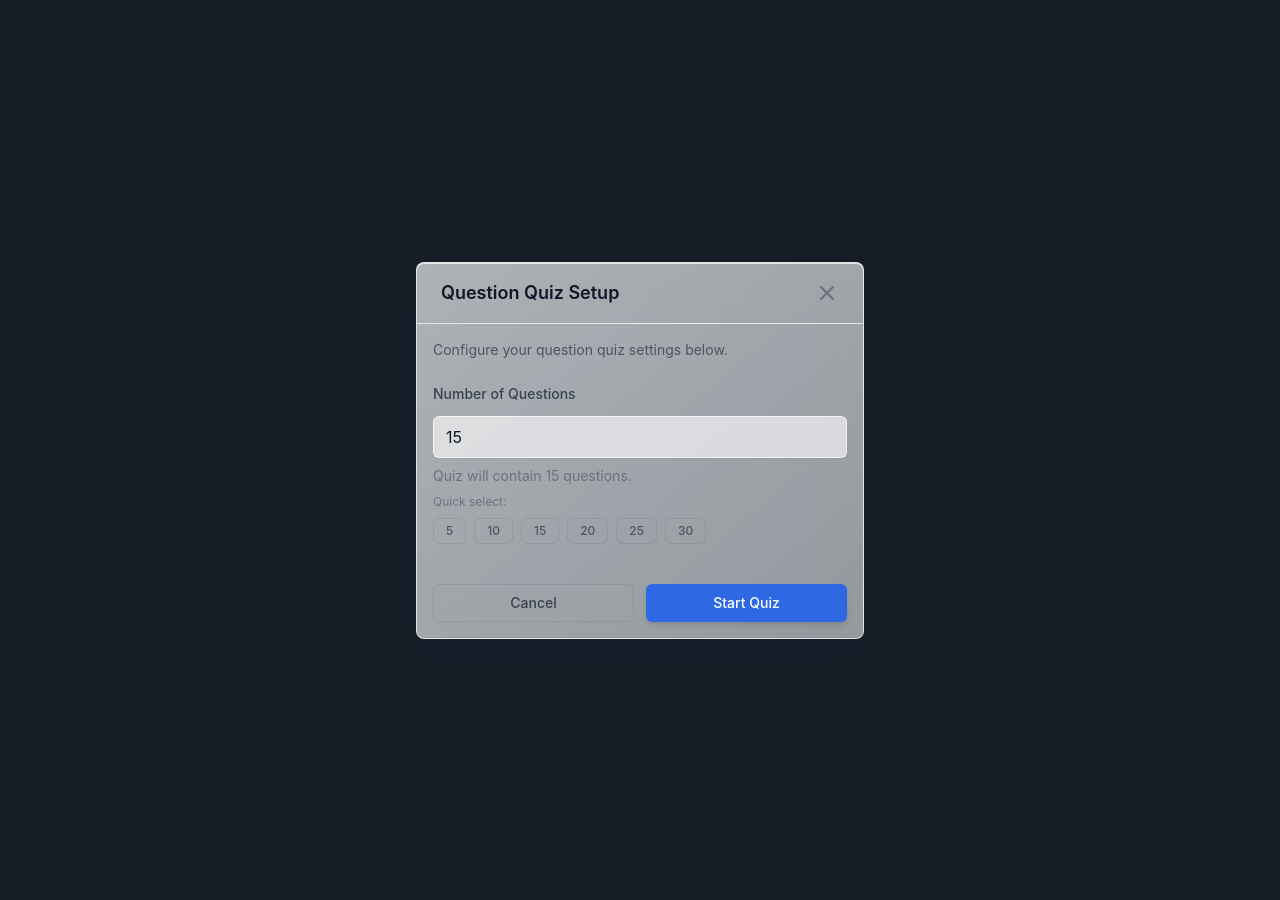
Test: QuizSetupModal › without familiarity selection › disables Start Quiz when the count is invalid
Clear the number field at {"x": 640, "y": 436}, box x1=433 y1=416 x2=847 y2=458
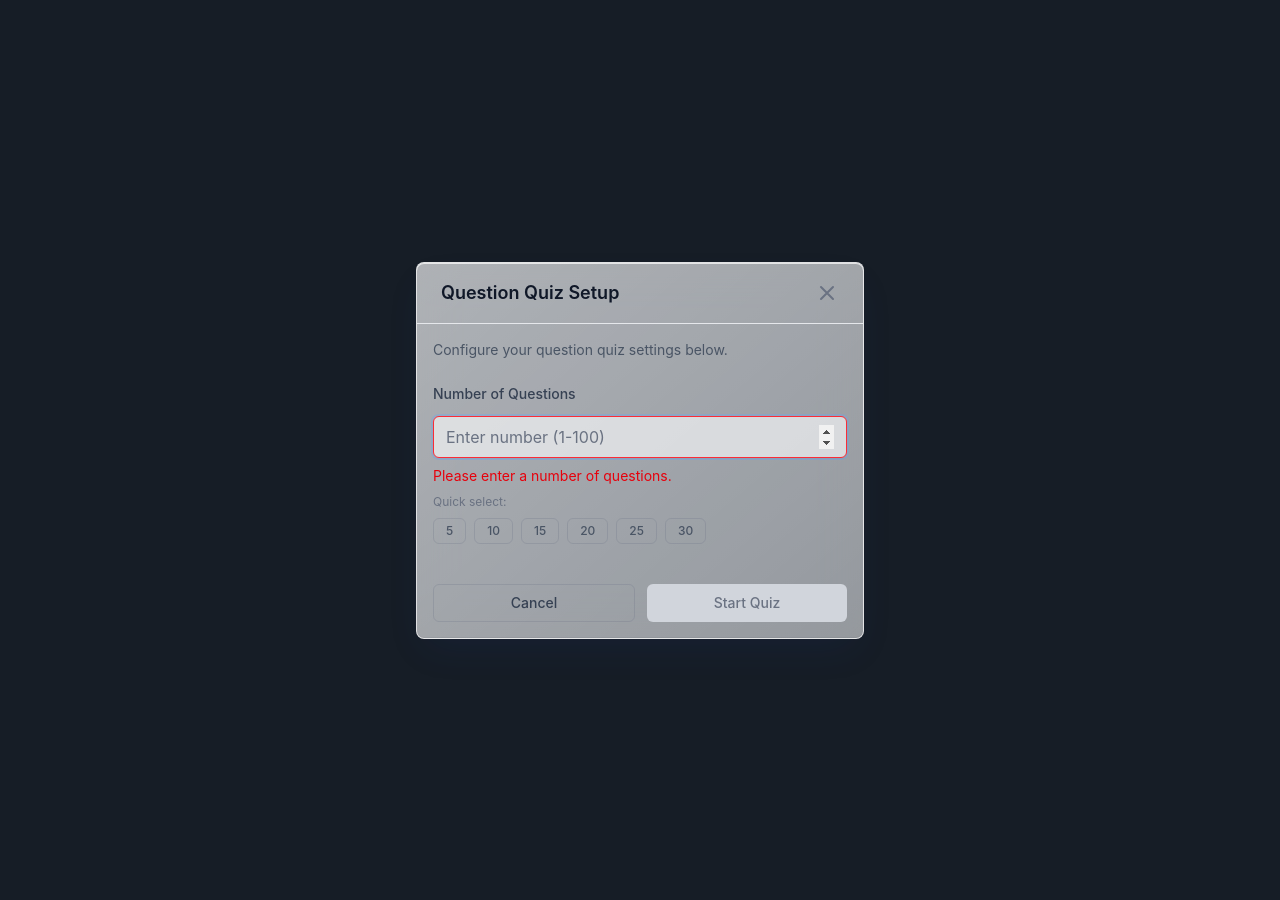
Expected: the button "Start Quiz" is disabled, x1=647 y1=584 x2=847 y2=622
